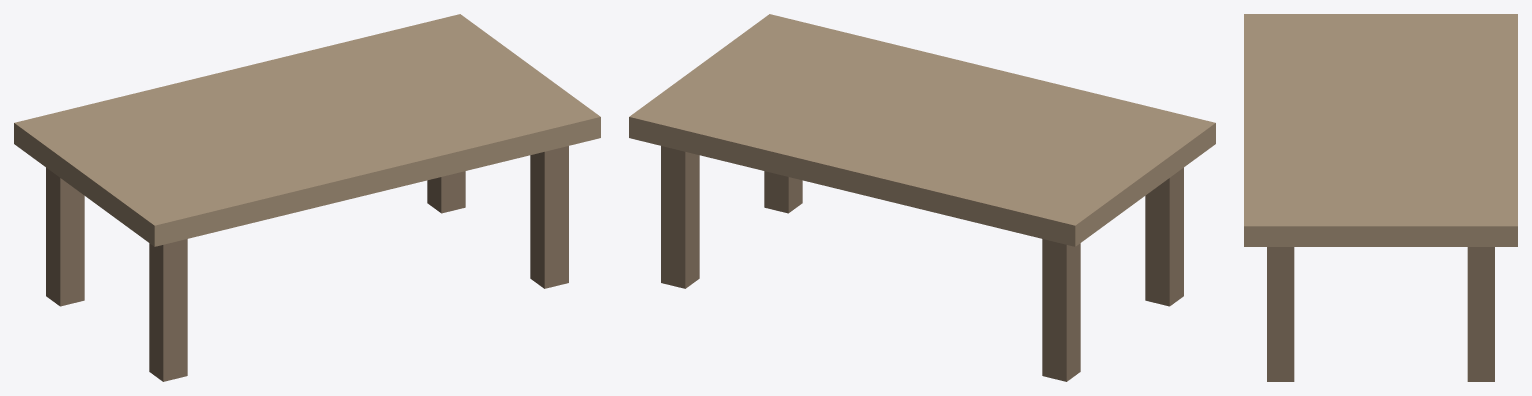
Rendered from cat_table_low-oak.glb.
The picture shows the model from 3 angles, left to right: view 1: azimuth 30°, elevation 25°; view 2: azimuth 150°, elevation 25°; view 3: azimuth 270°, elevation 25°; orthographic projection. The views are drawn at different scales.
Parts seen in each view (by area): view 1: geometry_0, geometry_2, geometry_4, geometry_1, geometry_3; view 2: geometry_0, geometry_1, geometry_3, geometry_2, geometry_4; view 3: geometry_0, geometry_3, geometry_4.
Part boxes in pixels (x1,y1,x2,y2): geometry_0: [14, 14, 600, 246]; geometry_2: [149, 239, 187, 381]; geometry_4: [530, 146, 568, 288]; geometry_1: [46, 167, 84, 306]; geometry_3: [427, 171, 465, 213]; geometry_0: [629, 14, 1215, 246]; geometry_1: [1042, 239, 1080, 381]; geometry_3: [661, 146, 699, 288]; geometry_2: [1145, 167, 1183, 306]; geometry_4: [764, 171, 802, 213]; geometry_0: [1244, 14, 1517, 246]; geometry_3: [1467, 247, 1494, 381]; geometry_4: [1267, 247, 1294, 381].
Size of the model in its own units: 1.1 by 0.4 by 0.6.
